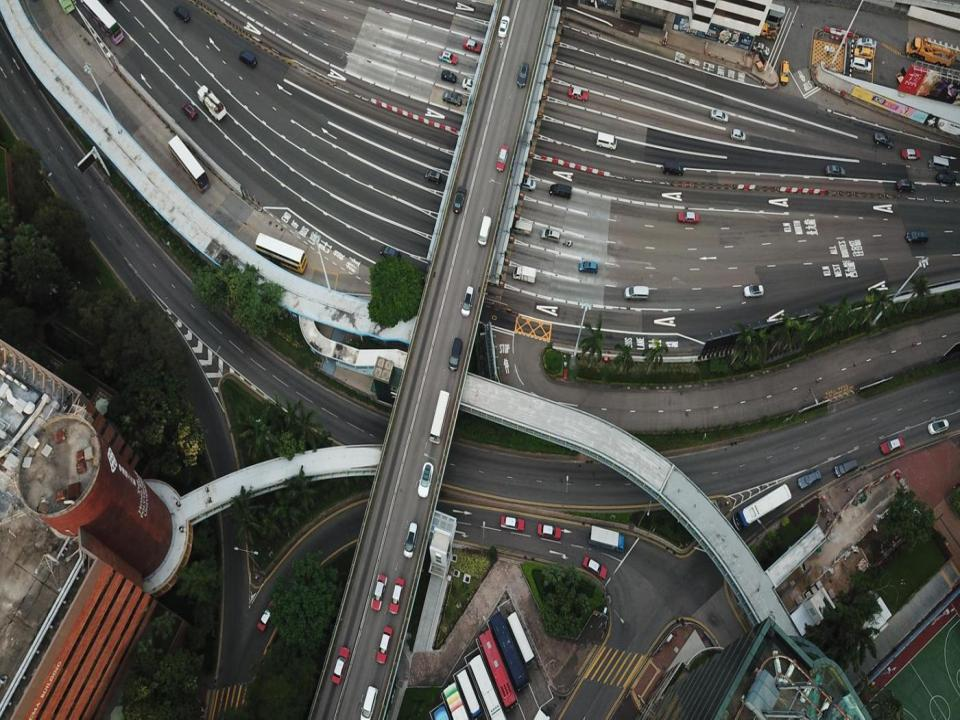bus: (478, 628, 518, 712), (490, 611, 529, 691), (732, 483, 792, 531), (468, 652, 507, 719), (167, 134, 210, 194), (255, 232, 307, 275), (82, 0, 124, 44), (507, 610, 535, 668), (456, 668, 482, 719), (428, 389, 450, 444), (442, 682, 469, 719)
car: (257, 598, 281, 632), (330, 646, 350, 683), (376, 626, 393, 663), (582, 556, 608, 580), (417, 462, 434, 497), (371, 574, 387, 611), (388, 577, 404, 614), (798, 470, 822, 488), (500, 515, 524, 532), (880, 437, 904, 454), (452, 185, 466, 213), (537, 524, 561, 540), (874, 132, 894, 148), (442, 90, 462, 106), (516, 176, 535, 192), (462, 78, 482, 93), (438, 50, 458, 65), (497, 144, 508, 171), (463, 38, 482, 53), (568, 87, 588, 101), (743, 284, 764, 297), (752, 42, 770, 57), (578, 260, 597, 274), (677, 211, 699, 223), (936, 172, 956, 185), (825, 165, 845, 178), (710, 109, 728, 123), (498, 16, 509, 38), (856, 36, 876, 48), (901, 148, 920, 160), (730, 128, 746, 142)
truck: (905, 35, 957, 68), (196, 84, 226, 121), (589, 525, 625, 553), (754, 20, 778, 42), (513, 265, 536, 283)
van: (403, 522, 420, 558), (360, 686, 378, 719), (448, 337, 463, 371), (833, 459, 858, 478), (477, 215, 492, 246), (624, 284, 649, 302), (595, 130, 617, 150), (461, 286, 474, 316), (927, 417, 948, 435), (928, 155, 950, 172), (549, 183, 572, 199), (512, 219, 532, 237), (238, 50, 257, 67), (380, 246, 400, 262), (906, 230, 928, 244), (852, 56, 871, 72), (517, 62, 529, 87), (663, 161, 684, 175), (540, 228, 561, 242), (181, 101, 197, 119), (896, 179, 916, 193), (854, 47, 874, 61), (174, 6, 190, 23), (424, 169, 441, 184), (779, 60, 789, 84), (441, 69, 457, 82)
